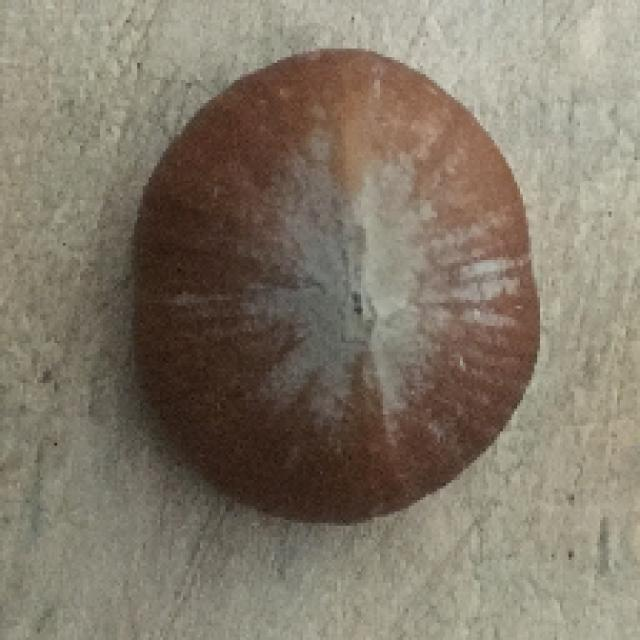QualityHazelnut: (123, 48, 543, 526)
